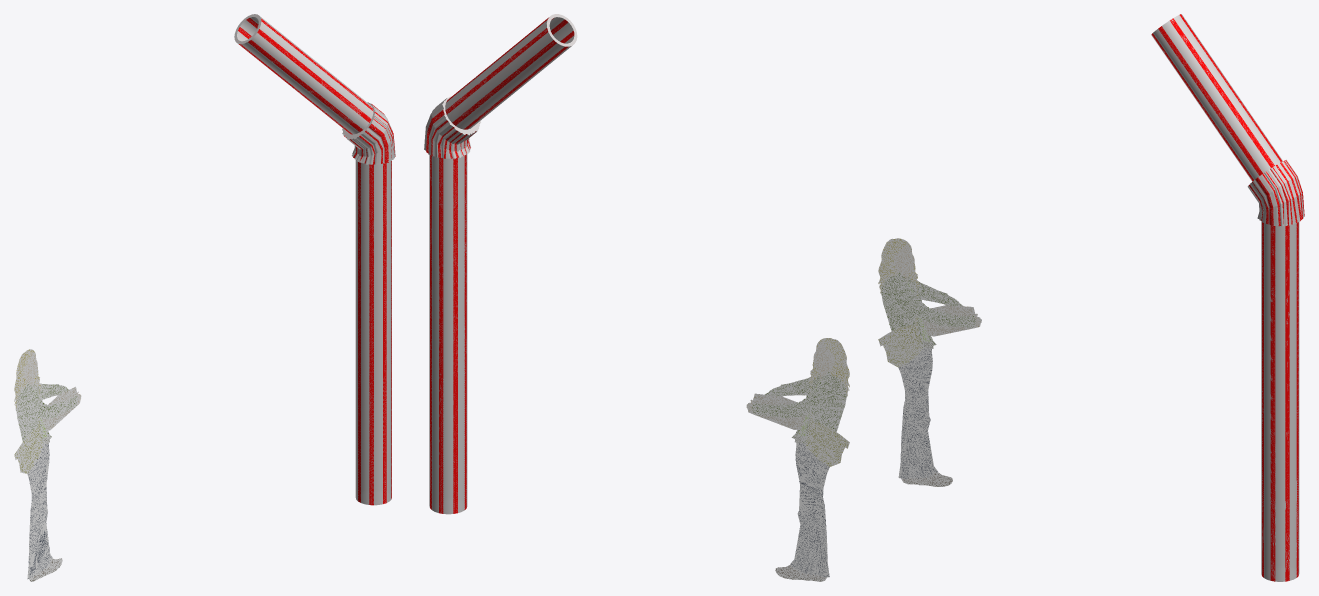
3 views of the same model, side by side, from view 1: azimuth 30°, elevation 25°; view 2: azimuth 150°, elevation 25°; view 3: azimuth 330°, elevation 25° (orthographic). The views are drawn at different scales.
Visible parts, largest first — view 1: SketchUp (×8), _2D_Woman_Standing_Sandra (×3); view 2: SketchUp (×9), _2D_Woman_Standing_Sandra (×4); view 3: SketchUp (×9), _2D_Woman_Standing_Sandra (×4).
Part boxes in pixels (<box>): SketchUp (×8): <box>234,14,395,505</box>; _2D_Woman_Standing_Sandra (×3): <box>14,382,77,579</box>; SketchUp (×9): <box>424,14,577,514</box>; _2D_Woman_Standing_Sandra (×4): <box>752,338,849,577</box>; SketchUp (×9): <box>1151,14,1304,581</box>; _2D_Woman_Standing_Sandra (×4): <box>878,238,975,478</box>.
Bounding box in the file's own units: 117 × 15.48 × 143.
